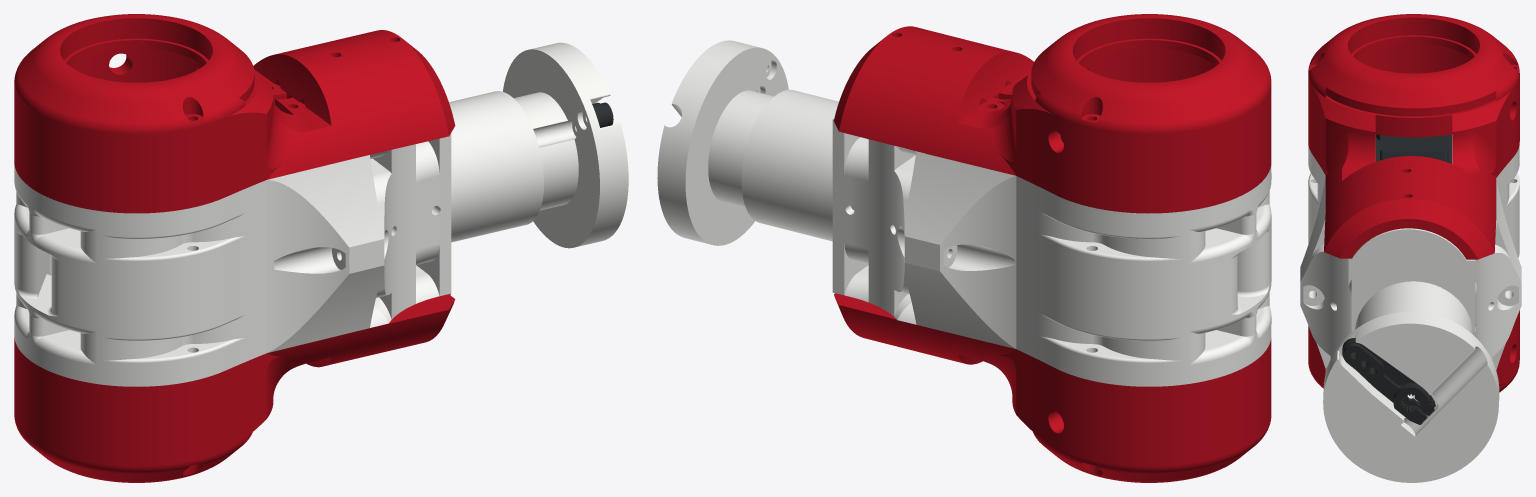
File: Link1_Shoulder.dae
The picture shows the model from 3 angles, left to right: view 1: azimuth 30°, elevation 25°; view 2: azimuth 150°, elevation 25°; view 3: azimuth 270°, elevation 25°; orthographic projection. The views are drawn at different scales.
Parts seen in each view (by area): view 1: Link1_Shoulder; view 2: Link1_Shoulder; view 3: Link1_Shoulder.
Boxes of the visible parts, x1,y1,x2,y2 form: Link1_Shoulder: [14, 14, 628, 482]; Link1_Shoulder: [657, 14, 1271, 482]; Link1_Shoulder: [1300, 14, 1521, 482].
Size of the model in its own units: 0.2166 by 0.0875 by 0.1494.
